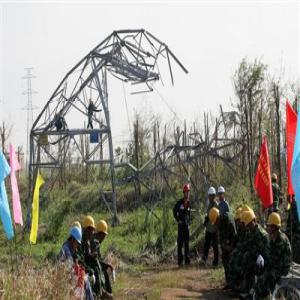blue: (70, 227, 83, 250)
red: (183, 183, 191, 200)
white: (208, 187, 218, 202), (219, 186, 227, 201)
yellow: (268, 211, 283, 238), (83, 217, 96, 241), (245, 211, 258, 233), (97, 222, 109, 245), (210, 208, 222, 229), (236, 207, 243, 230), (272, 173, 279, 186)
